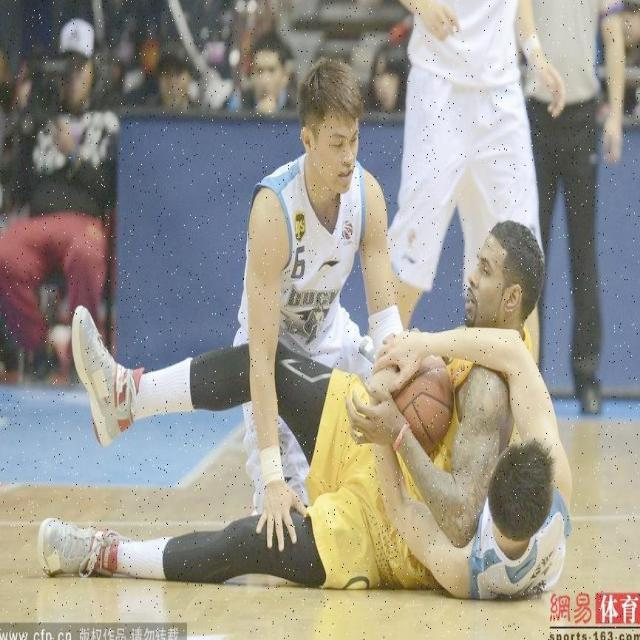fall: (52, 247, 524, 579)
